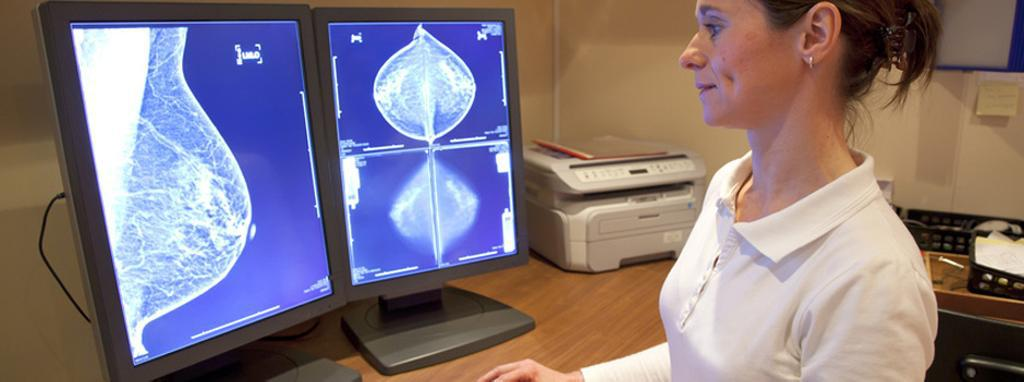face: (683, 5, 801, 125)
